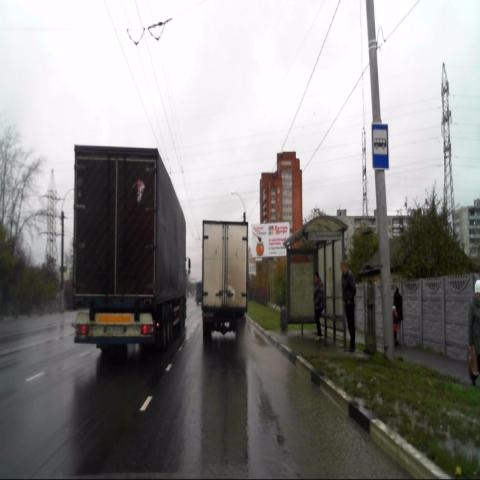5_16: (371, 123, 389, 170)
